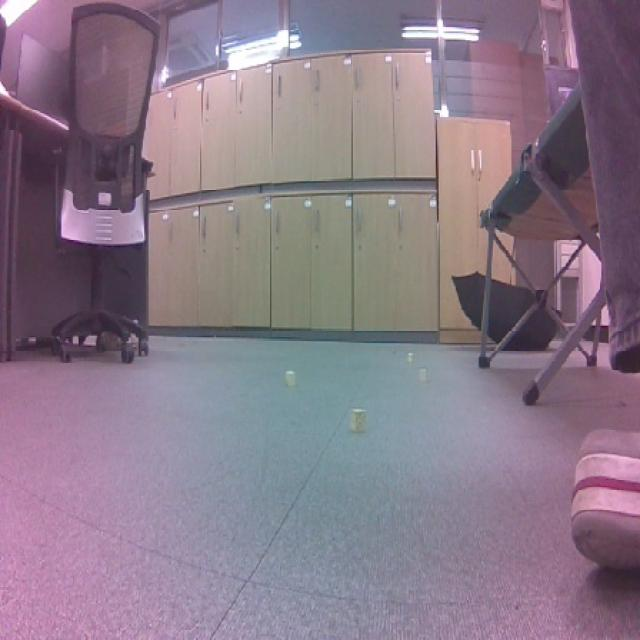obstacle: (277, 367, 309, 395), (346, 404, 372, 436), (410, 364, 434, 389)
